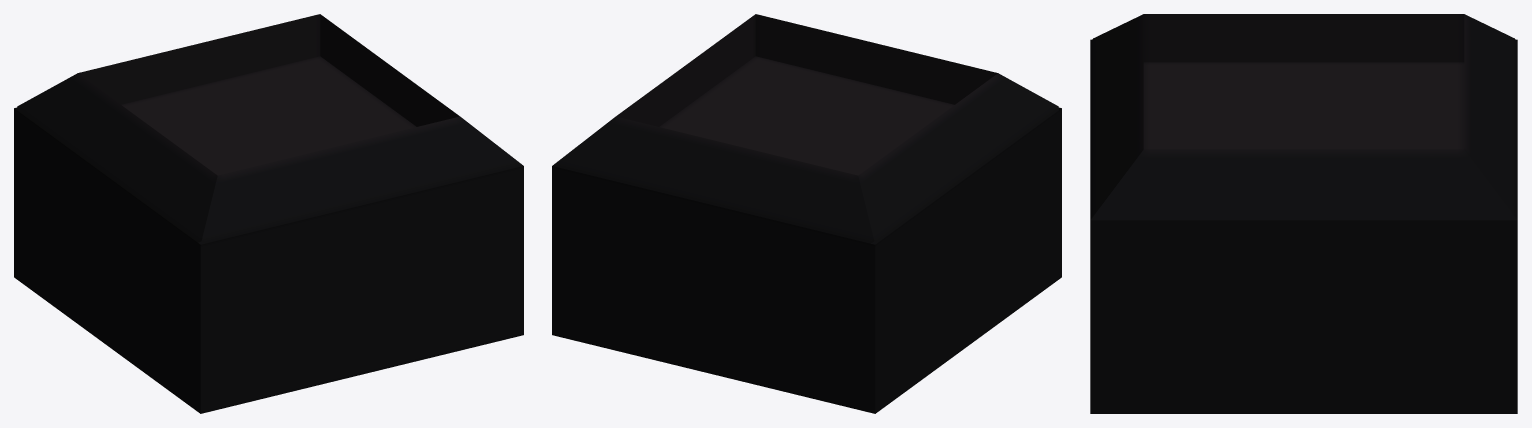
Rendered from Wall_002.fbx.
3 views of the same model, side by side, from view 1: azimuth 30°, elevation 25°; view 2: azimuth 150°, elevation 25°; view 3: azimuth 270°, elevation 25° (orthographic). The views are drawn at different scales.
Visible parts, largest first — view 1: Wall.002; view 2: Wall.002; view 3: Wall.002.
Boxes of the visible parts, x1=… form: Wall.002: x1=14, y1=14, x2=523, y2=413; Wall.002: x1=552, y1=14, x2=1061, y2=413; Wall.002: x1=1090, y1=14, x2=1517, y2=413.
Bounding box in the file's own units: 1 × 0.625 × 1.
Materials: 1 (1 with a texture image).
